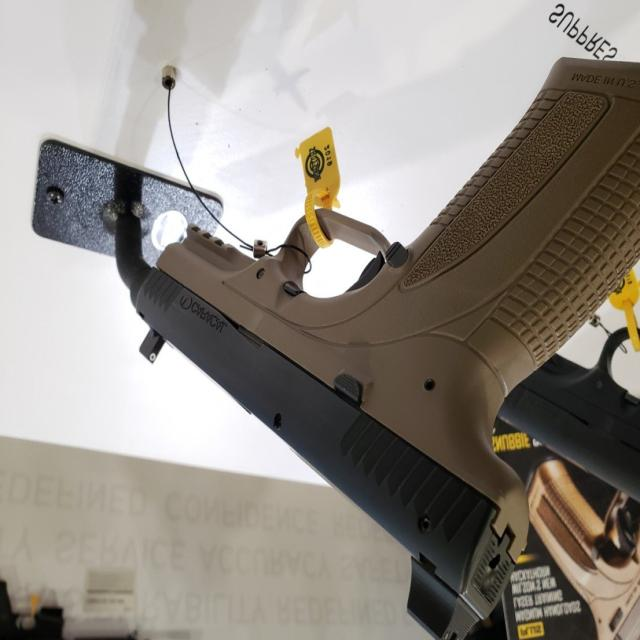Gun: (150, 8, 639, 640), (460, 321, 640, 539)
